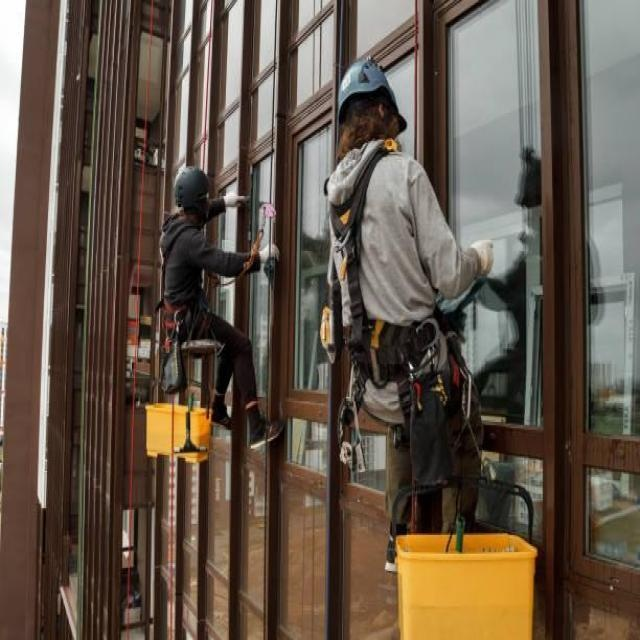Arnes_seguridad: (319, 142, 468, 434), (159, 217, 216, 361)
